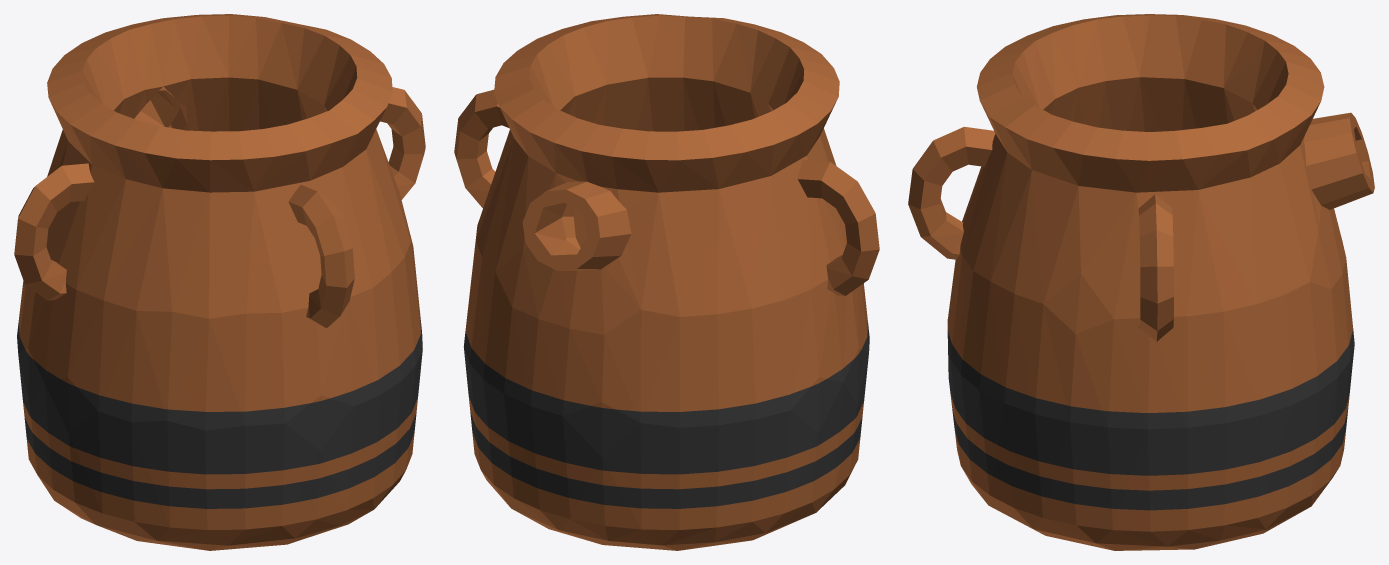
Rendered from Pottery 12_3.fbx.
The picture shows the model from 3 angles, left to right: view 1: azimuth 30°, elevation 25°; view 2: azimuth 150°, elevation 25°; view 3: azimuth 270°, elevation 25°; orthographic projection.
Parts seen in each view (by area): view 1: Pottery 12_3; view 2: Pottery 12_3; view 3: Pottery 12_3.
Part boxes in pixels (x1=…): Pottery 12_3: x1=14, y1=14, x2=425, y2=550; Pottery 12_3: x1=454, y1=14, x2=879, y2=550; Pottery 12_3: x1=908, y1=14, x2=1374, y2=550.
Bounding box in the file's own units: 62.86 × 59.43 × 60.51.
